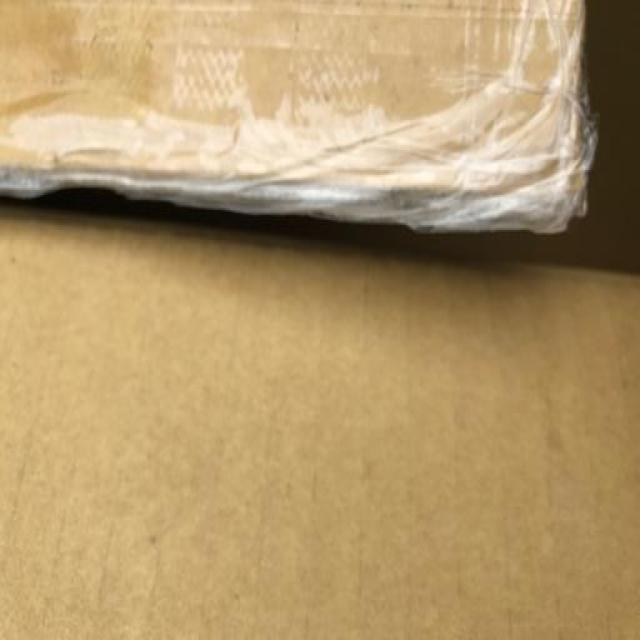Cardboard: (1, 5, 582, 240)
